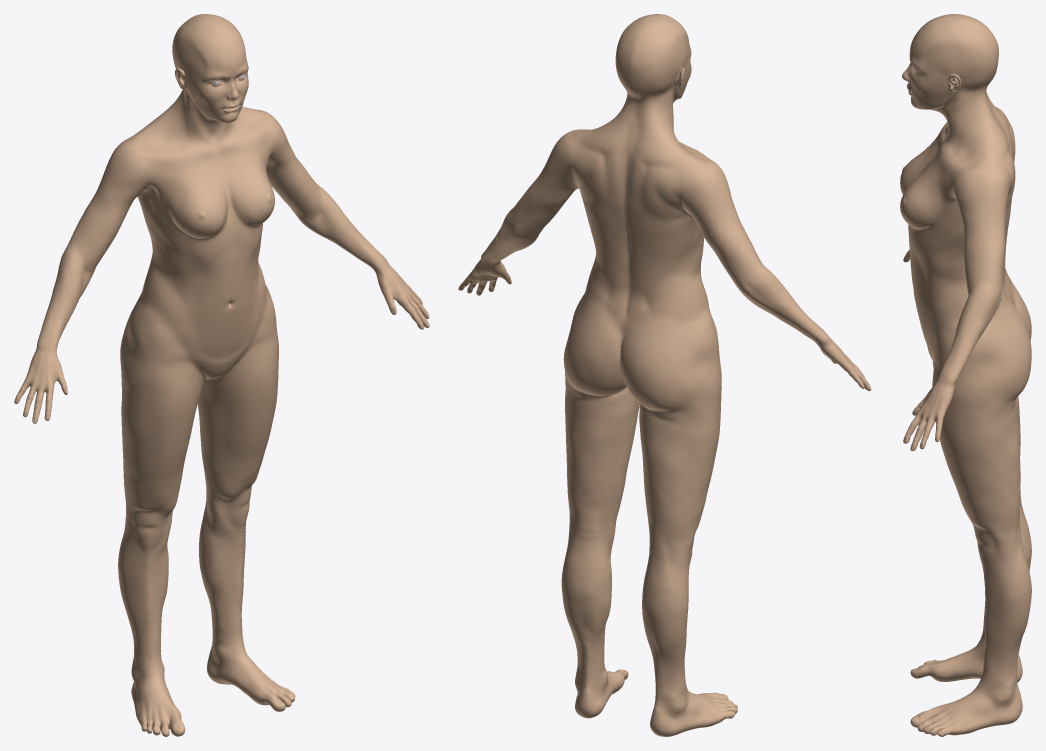
File: female_model.glb
The picture shows the model from 3 angles, left to right: view 1: azimuth 30°, elevation 25°; view 2: azimuth 150°, elevation 25°; view 3: azimuth 270°, elevation 25°; orthographic projection.
Parts seen in each view (by area): view 1: Female Sculpt_Material_0.001, Female Sculpt, Female Sculpt_Material_0.002, Female Sculpt_Material_0.003; view 2: Female Sculpt_Material_0.001, Female Sculpt, Female Sculpt_Material_0.002, Female Sculpt_Material_0.003; view 3: Female Sculpt, Female Sculpt_Material_0.001, Female Sculpt_Material_0.002, Female Sculpt_Material_0.003.
Part boxes in pixels (x1,y1,x2,y2): Female Sculpt_Material_0.001: [33, 14, 422, 613]; Female Sculpt: [83, 15, 367, 641]; Female Sculpt_Material_0.002: [14, 21, 429, 733]; Female Sculpt_Material_0.003: [29, 27, 416, 736]; Female Sculpt_Material_0.001: [474, 14, 838, 629]; Female Sculpt: [489, 14, 757, 644]; Female Sculpt_Material_0.002: [458, 14, 871, 736]; Female Sculpt_Material_0.003: [480, 27, 853, 736]; Female Sculpt: [900, 14, 1031, 677]; Female Sculpt_Material_0.001: [900, 14, 1031, 682]; Female Sculpt_Material_0.002: [900, 18, 1031, 733]; Female Sculpt_Material_0.003: [900, 35, 1031, 736].
Bounding box in the file's own units: 1186 × 1926 × 334.
Materials: 3 (2 with a texture image).
